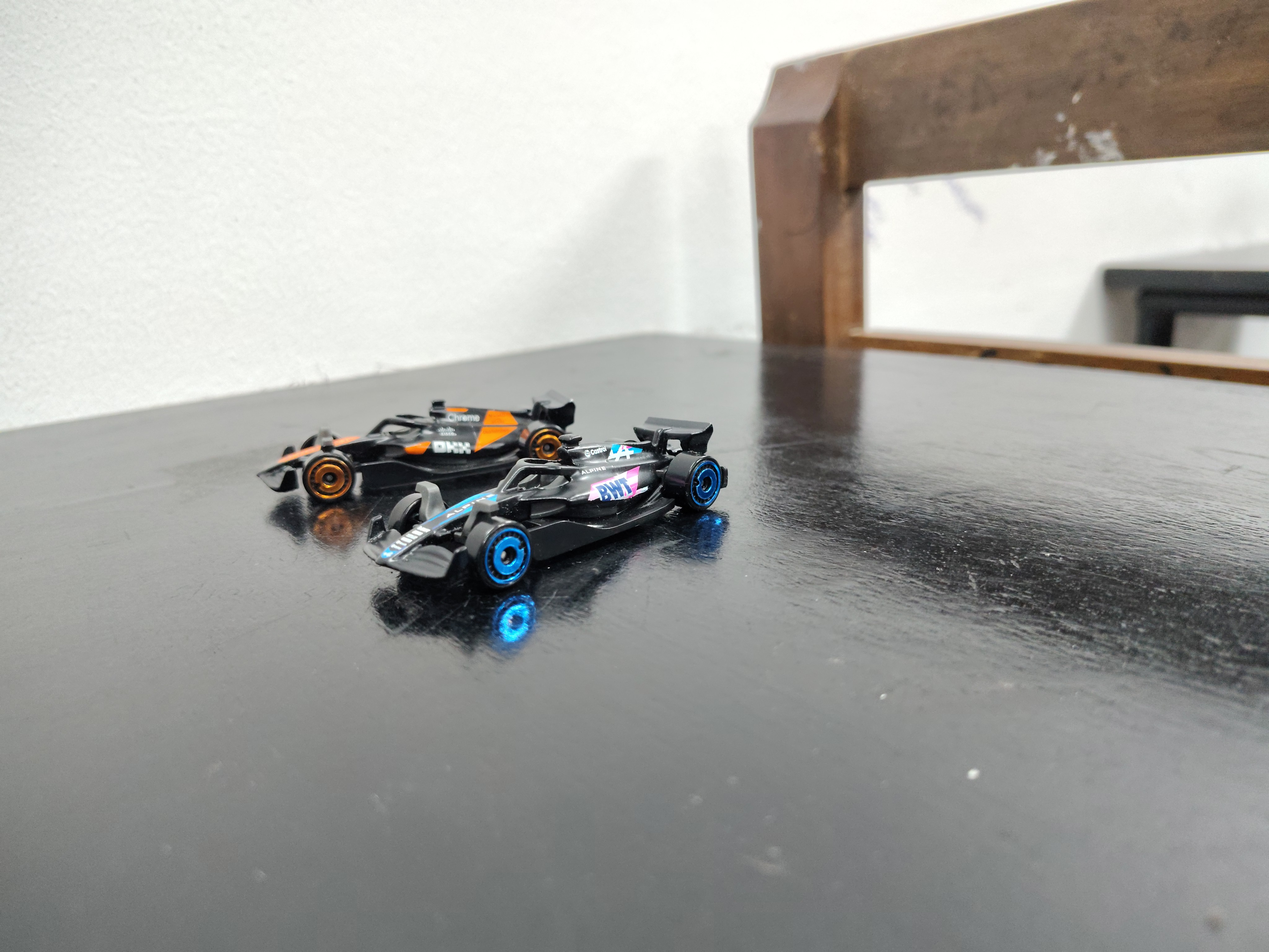Alpine A524: (362, 434, 756, 578)
McLaren MCL40: (240, 381, 593, 494)
